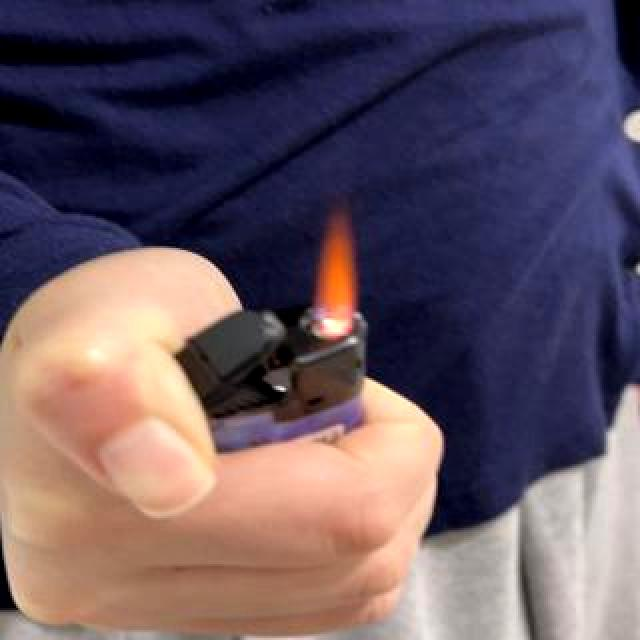fire: (310, 195, 360, 331)
